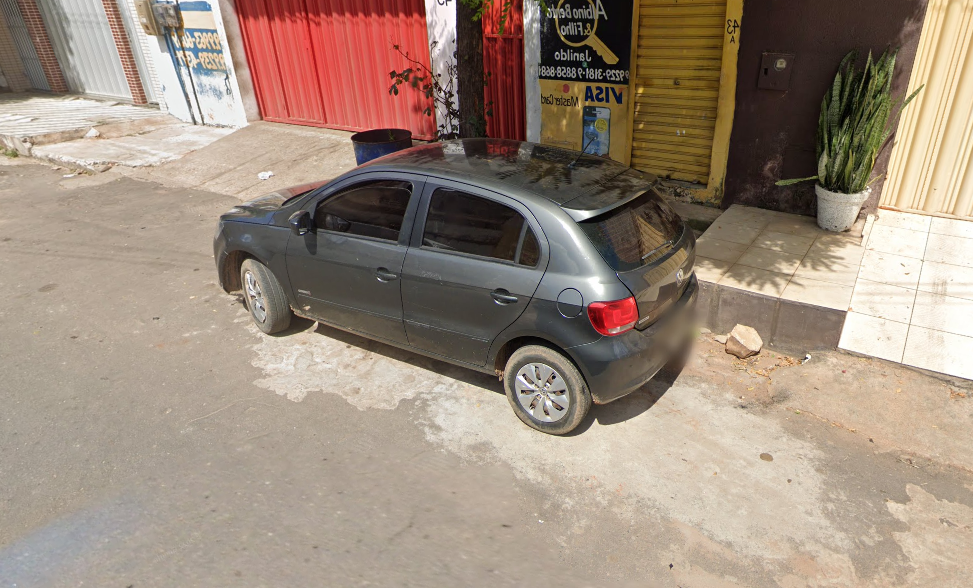car: (202, 126, 710, 441)
